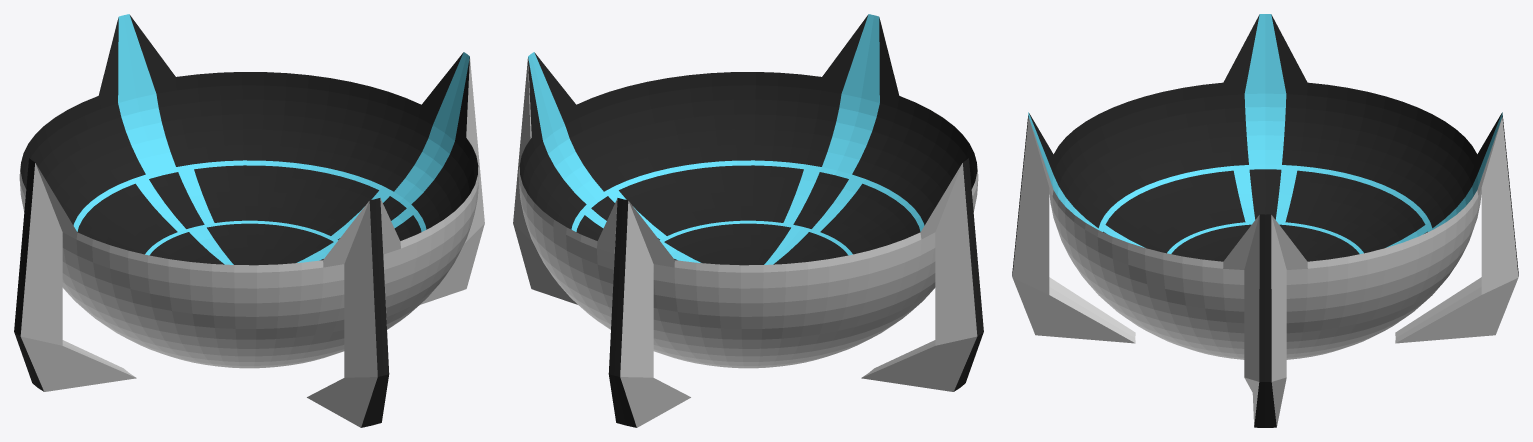
The picture shows the model from 3 angles, left to right: view 1: azimuth 30°, elevation 25°; view 2: azimuth 150°, elevation 25°; view 3: azimuth 270°, elevation 25°; orthographic projection. The views are drawn at different scales.
Visible parts, largest first — view 1: Stadium; view 2: Stadium; view 3: Stadium.
Part boxes in pixels (x1=…): Stadium: x1=14, y1=14, x2=484, y2=427; Stadium: x1=513, y1=14, x2=983, y2=427; Stadium: x1=1012, y1=14, x2=1518, y2=427.
Bounding box in the file's own units: 350 × 171 × 350.
